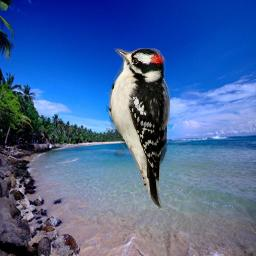Woodpecker: (106, 48, 170, 209)
